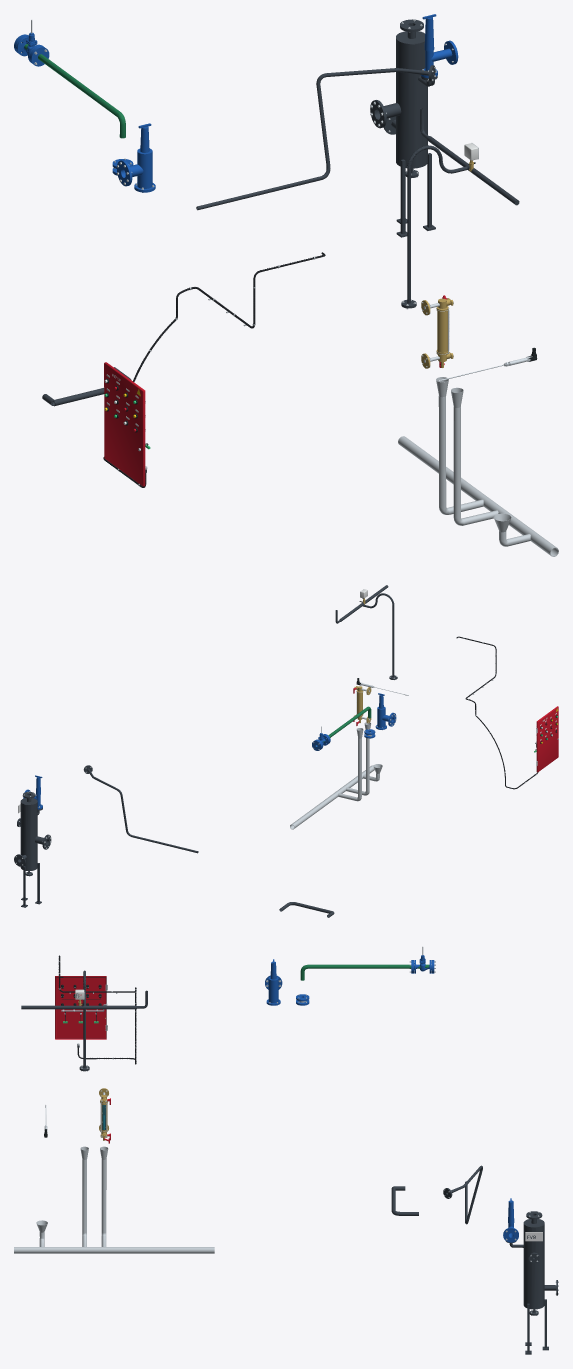
3 renders of one model, top to bottom at view 1: azimuth 30°, elevation 25°; view 2: azimuth 150°, elevation 25°; view 3: azimuth 270°, elevation 25°, orthographic. The views are drawn at different scales.
Visible parts, largest first — view 1: separator_fv8 / dark, local_open_drains / steel, cabinet_door / cabinet_door_5.npz, pressure_header / dark, tds_without_fv / dark, safety_2 / blue, sight_glasses_2 / sight_glasses_2_0.npz, wiring_lcs600 / black, flash_steam_common / blue, direct_inlet / green; view 2: separator_fv8 / dark, local_open_drains / steel, cabinet_door / cabinet_door_5.npz, pressure_header / dark, tds_without_fv / dark; view 3: cabinet_door / cabinet_door_5.npz, local_open_drains / steel, separator_fv8 / dark, pressure_header / dark, direct_inlet / green.
Boxes of the visible parts, box(x1,y1,x2,y2) form: separator_fv8 / dark: box(370, 19, 437, 237); local_open_drains / steel: box(398, 377, 558, 556); cabinet_door / cabinet_door_5.npz: box(104, 362, 145, 486); pressure_header / dark: box(401, 108, 519, 308); tds_without_fv / dark: box(196, 65, 435, 210); safety_2 / blue: box(117, 123, 155, 192); sight_glasses_2 / sight_glasses_2_0.npz: box(421, 295, 453, 368); wiring_lcs600 / black: box(103, 252, 325, 487); flash_steam_common / blue: box(421, 14, 458, 78); direct_inlet / green: box(38, 54, 125, 138); separator_fv8 / dark: box(14, 792, 51, 907); local_open_drains / steel: box(290, 722, 382, 829); cabinet_door / cabinet_door_5.npz: box(536, 706, 558, 772); pressure_header / dark: box(335, 585, 397, 679); tds_without_fv / dark: box(83, 765, 198, 853); cabinet_door / cabinet_door_5.npz: box(55, 976, 107, 1039); local_open_drains / steel: box(14, 1146, 214, 1253); separator_fv8 / dark: box(506, 1211, 557, 1354); pressure_header / dark: box(21, 970, 147, 1071); direct_inlet / green: box(300, 964, 411, 980).
Bounding box in the file's own units: 5.18 × 3.09 × 5.63.
